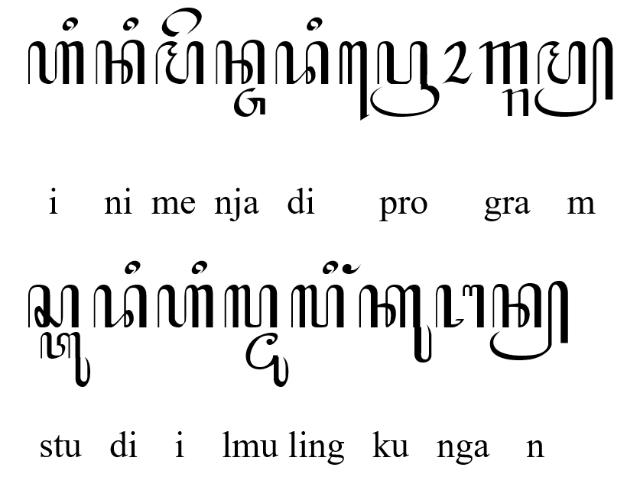-m: (534, 36, 614, 120)
-n: (490, 280, 570, 362)
_j: (234, 87, 266, 119)
_mu: (244, 332, 290, 388)
d: (274, 40, 330, 86), (92, 284, 148, 328)
e: (160, 6, 203, 37)
e1: (338, 40, 370, 122)
g: (478, 39, 528, 84)
h: (27, 40, 85, 86), (156, 284, 214, 330)
i: (124, 260, 142, 276), (62, 16, 78, 32), (191, 260, 207, 276), (122, 16, 138, 31), (306, 16, 322, 31), (322, 261, 338, 276)
ku: (358, 284, 432, 364)
l: (289, 284, 345, 330), (224, 283, 278, 329)
m: (155, 41, 205, 85)
n: (94, 39, 146, 85), (214, 39, 266, 85)
ng: (342, 262, 362, 276)
nga: (434, 284, 486, 328)
o: (441, 40, 472, 86)
pr: (372, 40, 440, 118)
r: (502, 88, 530, 118)
s: (28, 284, 80, 330)
tu: (39, 332, 91, 390)
